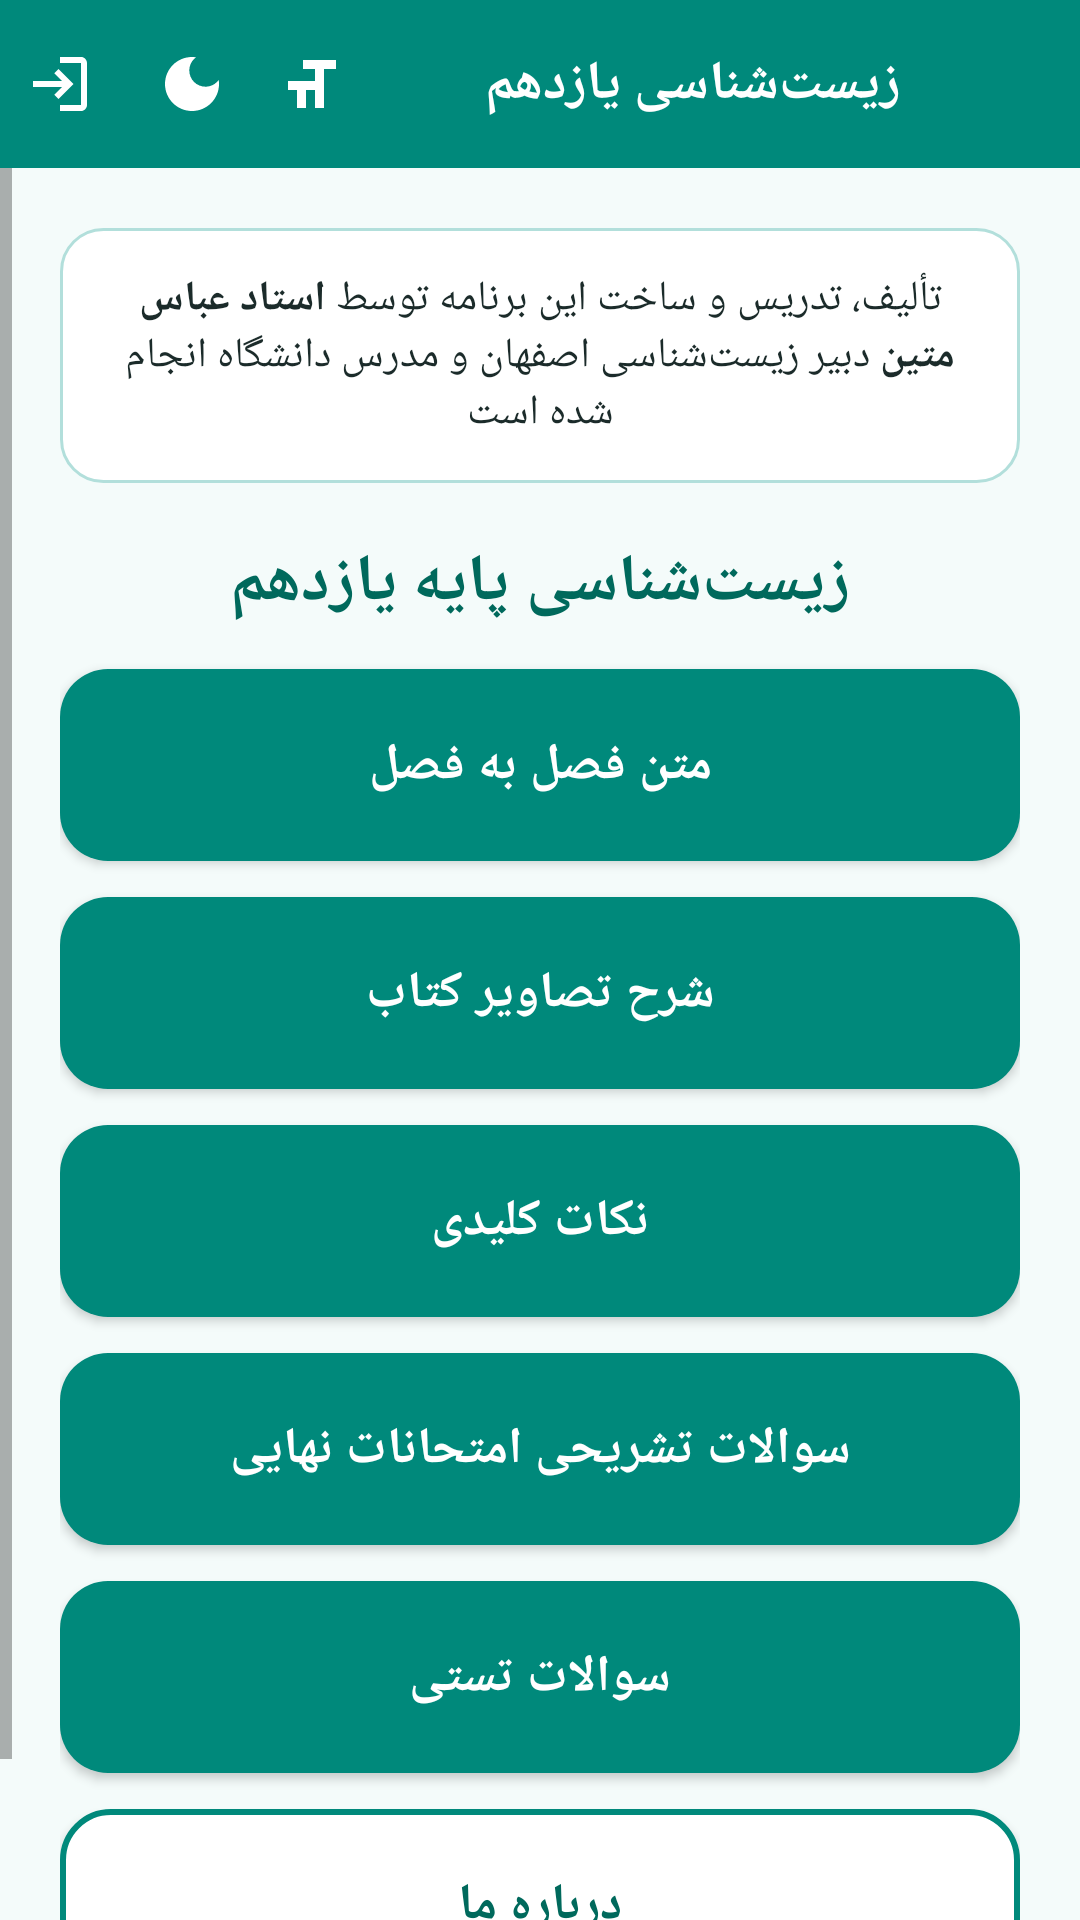

Screen size 1080x1920. Icon name, then its box in pixels as (x1, y1, x2, y2):
اندازه فونت: (288, 60, 336, 108)
حالت تاریک: (165, 57, 219, 111)
خروج: (33, 57, 87, 111)
